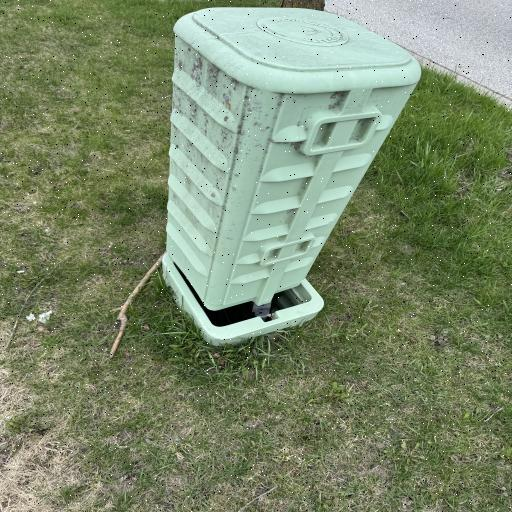Electrical Box: (158, 6, 420, 346)
